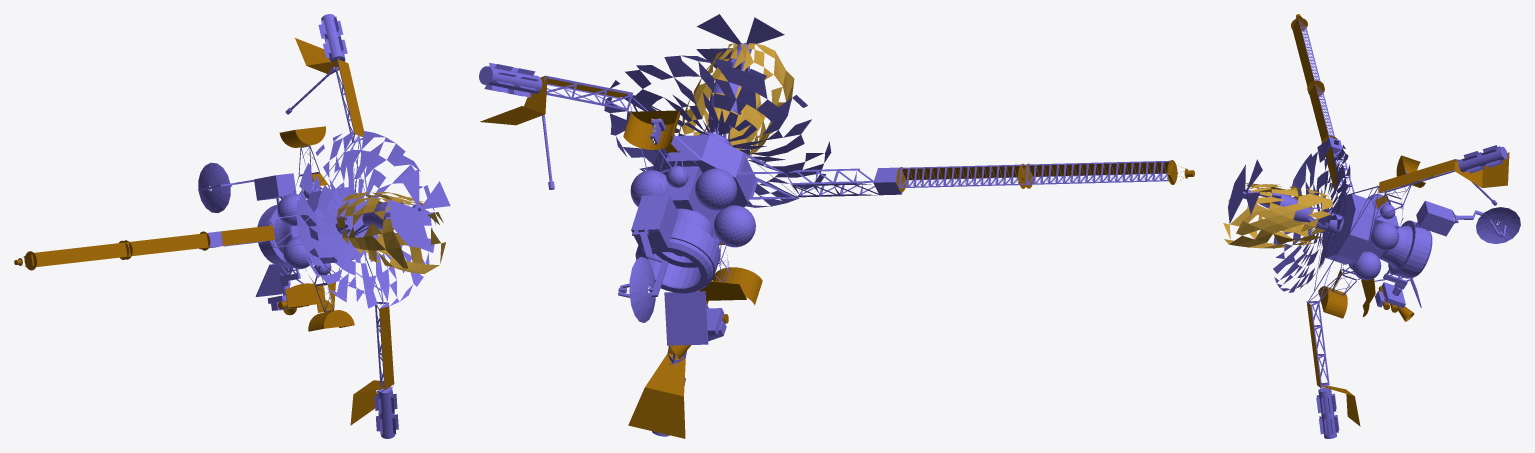
Rendered from GALILEO.glb.
3 renders of one model, left to right at view 1: azimuth 30°, elevation 25°; view 2: azimuth 150°, elevation 25°; view 3: azimuth 270°, elevation 25°, orthographic. The views are drawn at different scales.
Visible parts, largest first — view 1: IndexedF42, IndexedF55, IndexedF37, IndexedF46, IndexedFac, IndexedF52, IndexedF50, IndexedF54, IndexedF51, IndexedF56, IndexedFa6, IndexedF35 (+10 smaller); view 2: IndexedF42, IndexedF50, IndexedF36, IndexedF55, IndexedF10, IndexedFac, IndexedF37, IndexedF54, IndexedF51, IndexedFa4, IndexedF25, IndexedF46 (+11 smaller); view 3: IndexedF55, IndexedF42, IndexedFac, IndexedF50, IndexedF37, IndexedF52, IndexedF51, IndexedF16, IndexedF46, IndexedF54, IndexedF12, IndexedF26 (+15 smaller).
Part boxes in pixels (<box>): IndexedF42: <box>296,131,435,308</box>; IndexedF55: <box>337,191,445,273</box>; IndexedF37: <box>24,231,210,270</box>; IndexedF46: <box>388,169,450,248</box>; IndexedFac: <box>300,187,366,263</box>; IndexedF52: <box>198,162,231,212</box>; IndexedF50: <box>257,204,299,266</box>; IndexedF54: <box>255,264,300,310</box>; IndexedF51: <box>199,173,296,204</box>; IndexedF56: <box>285,283,332,312</box>; IndexedFa6: <box>379,303,394,389</box>; IndexedF35: <box>221,225,274,245</box>; IndexedF42: <box>604,55,831,207</box>; IndexedF50: <box>635,208,720,293</box>; IndexedF36: <box>899,160,1169,188</box>; IndexedF55: <box>679,43,794,158</box>; IndexedF10: <box>628,353,685,438</box>; IndexedFac: <box>652,135,755,210</box>; IndexedF37: <box>896,160,1177,191</box>; IndexedF54: <box>664,290,726,345</box>; IndexedF51: <box>631,195,678,296</box>; IndexedFa4: <box>792,167,902,197</box>; IndexedF25: <box>623,110,680,149</box>; IndexedF46: <box>696,14,784,72</box>; IndexedF55: <box>1223,183,1332,248</box>; IndexedF42: <box>1273,140,1350,292</box>; IndexedFac: <box>1321,193,1375,264</box>; IndexedF50: <box>1379,220,1432,278</box>; IndexedF37: <box>1291,18,1337,143</box>; IndexedF52: <box>1476,207,1520,243</box>; IndexedF51: <box>1415,200,1499,236</box>; IndexedF16: <box>1453,152,1509,187</box>; IndexedF46: <box>1228,159,1262,223</box>; IndexedF54: <box>1375,270,1421,307</box>; IndexedF12: <box>1379,159,1455,192</box>; IndexedF26: <box>1318,286,1347,318</box>.
Bounding box in the file's own units: 8.85 × 6.68 × 5.87.
